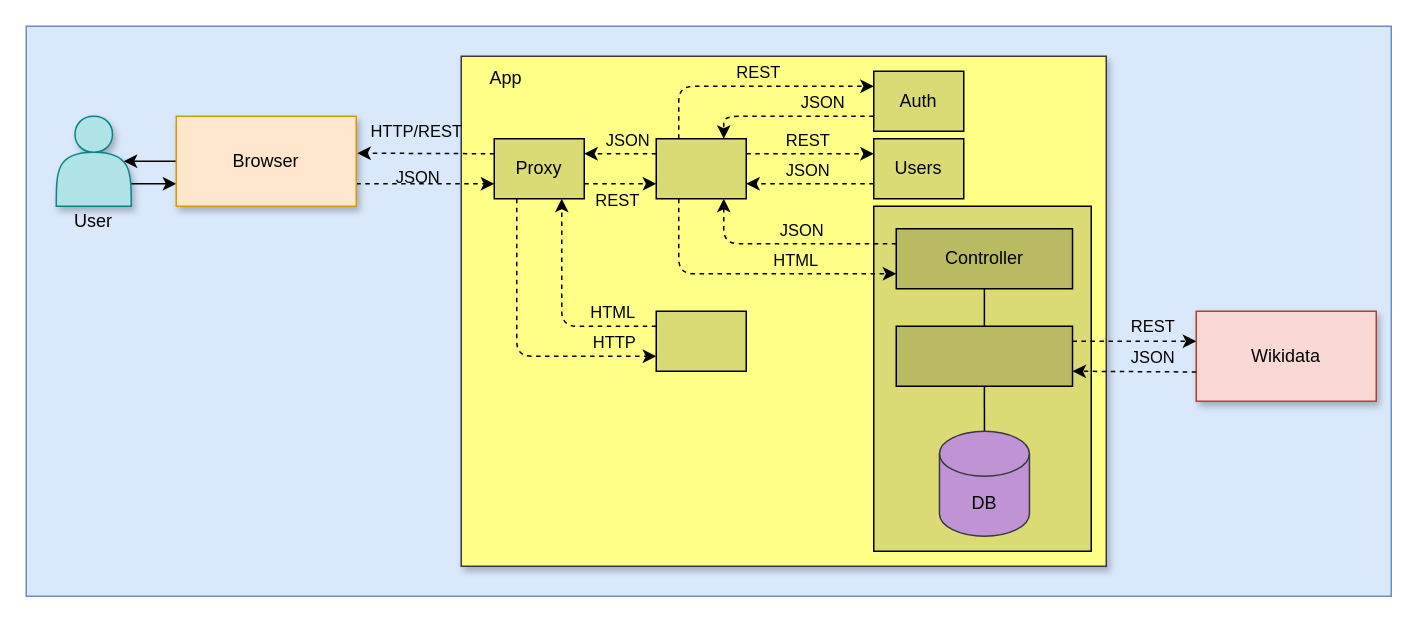
The diagram is 1418 pixels wide and 623 high, and some of its shapes have lost their labels. Here are the shapes that lost their labels. From the top down, the centre of each, then its label:
At point (700, 168): "Gateway".
At point (700, 340): "Web App".
At point (983, 355): "Service".
